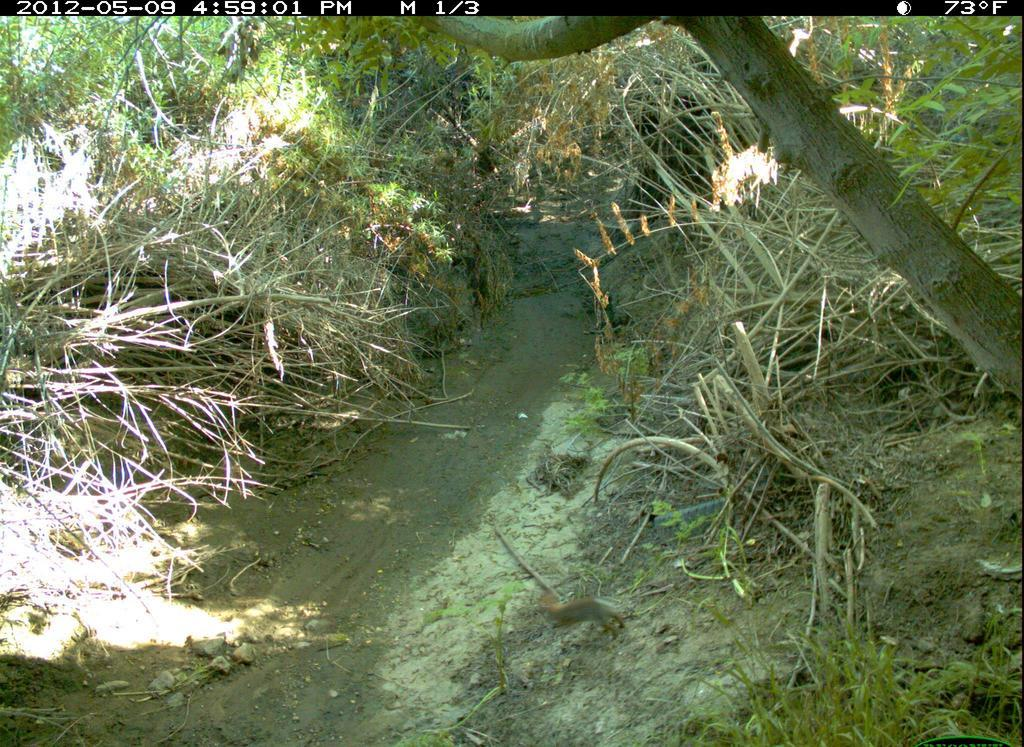rabbit: (520, 575, 649, 655)
